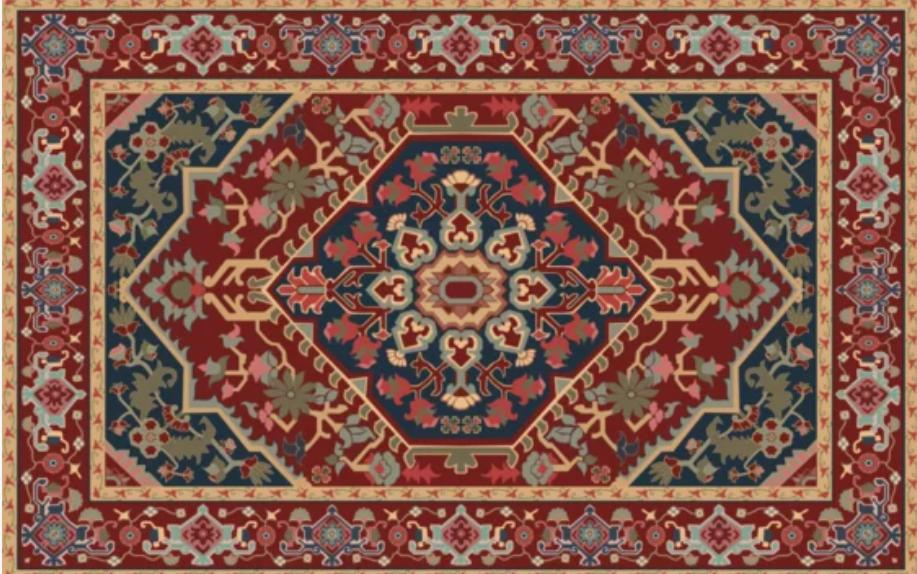carpet: (4, 4, 917, 569)
